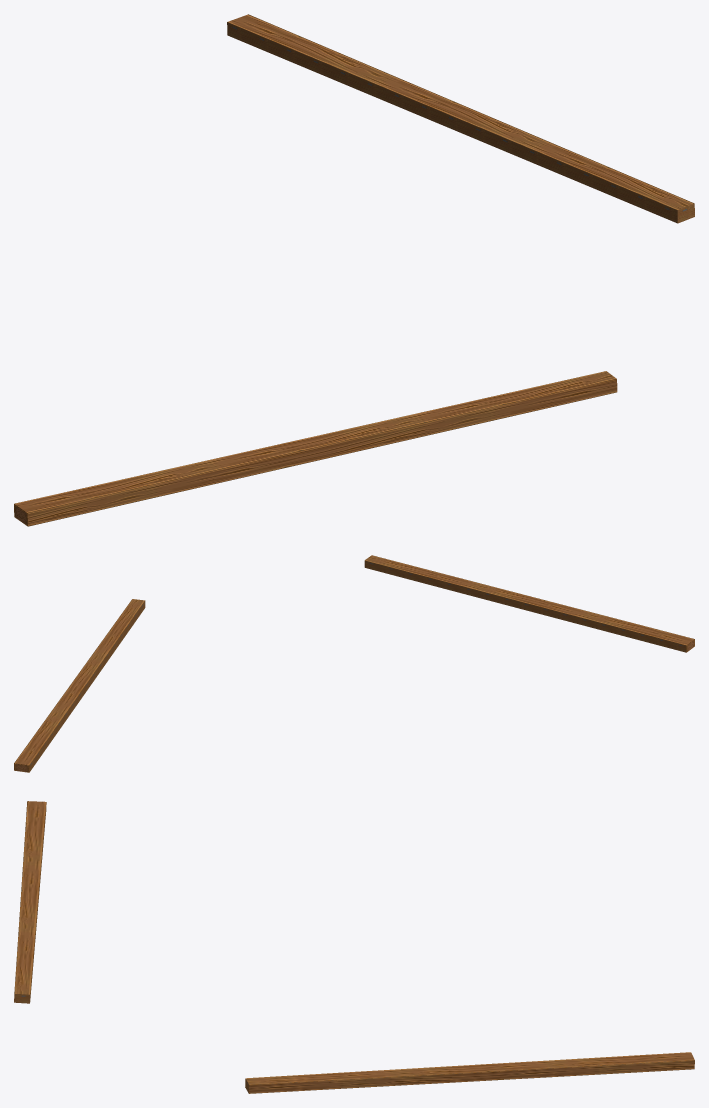
3 views of the same model, one above another, from view 1: azimuth 30°, elevation 25°; view 2: azimuth 150°, elevation 25°; view 3: azimuth 270°, elevation 25° (orthographic). The views are drawn at different scales.
Parts seen in each view (by area): view 1: Cube.2056; view 2: Cube.2056; view 3: Cube.2056.
Part boxes in pixels (x1,y1,x2,y2): Cube.2056: [14, 14, 694, 526]; Cube.2056: [14, 555, 694, 772]; Cube.2056: [14, 801, 694, 1093].
Size of the model in its own units: 1338 by 72.46 by 1397.
1 material, 1 textured.
